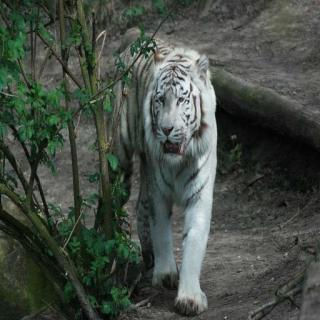Tiger: (108, 33, 220, 313)
